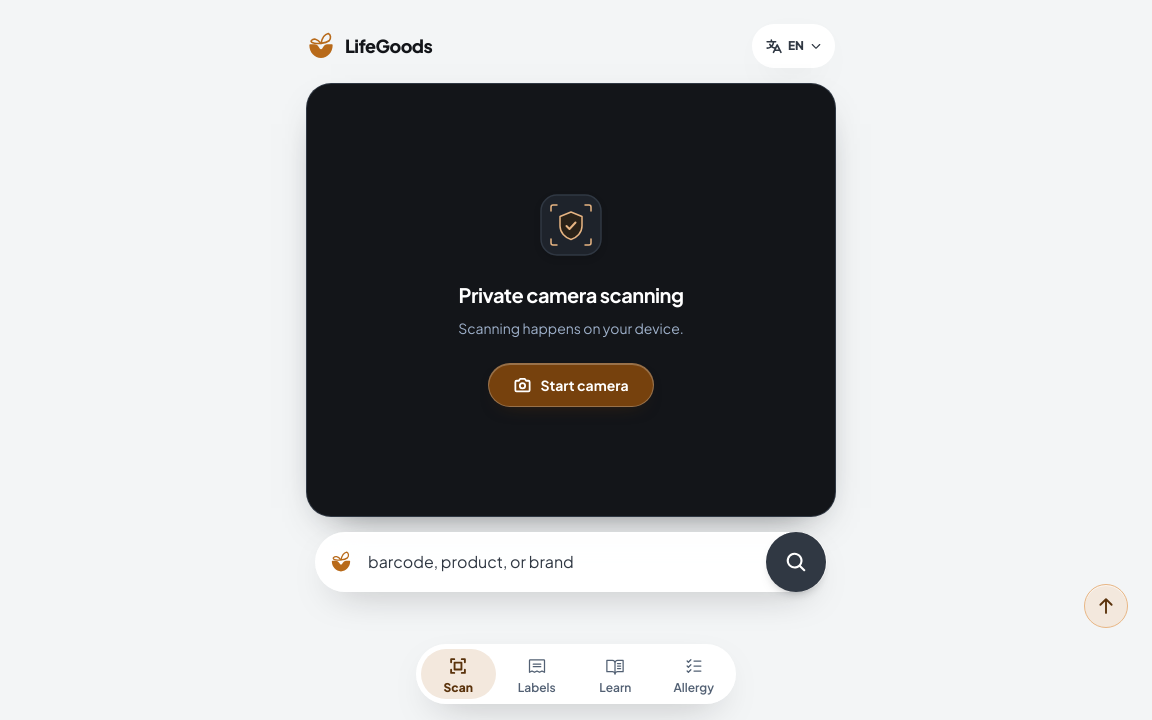
it: Compare Nutrition frontend page (/compare) › is reached from the primary navigation, not from the Scan page
(page scrolled)
Expected: the link "Compare Nutrition" is not shown
Click the link "Labels" at (537, 675), box [518,656,556,694]
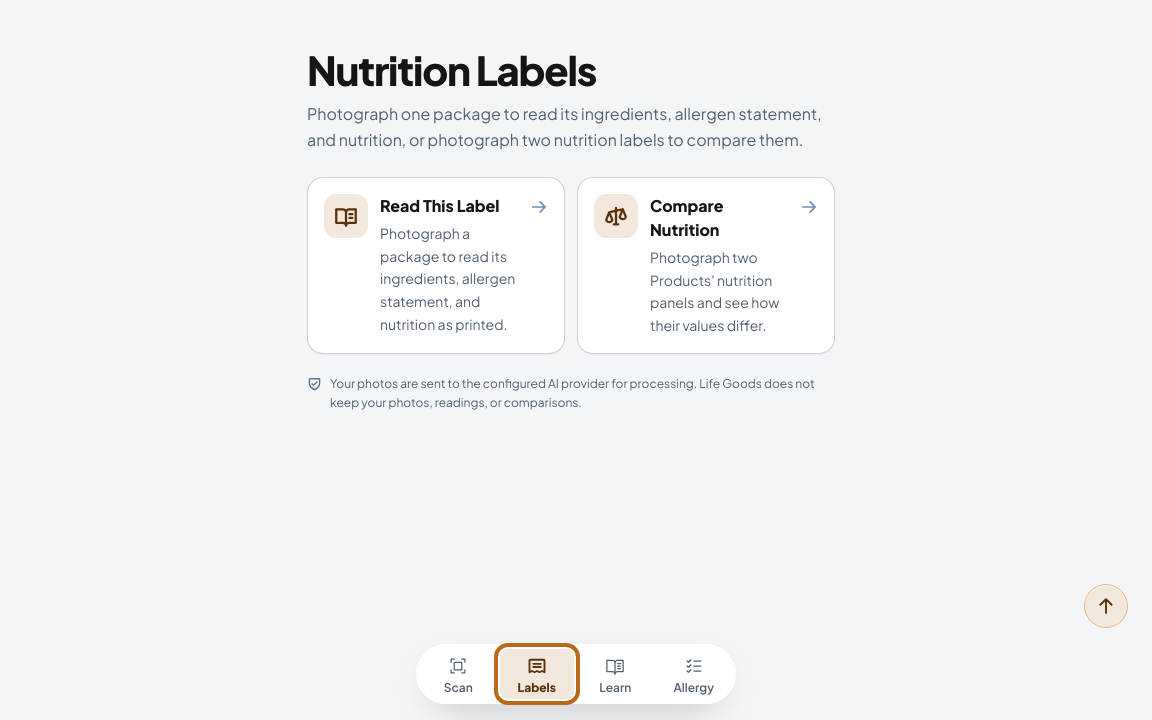
Click the link "Compare Nutrition" at (706, 265), box [577,177,835,354]
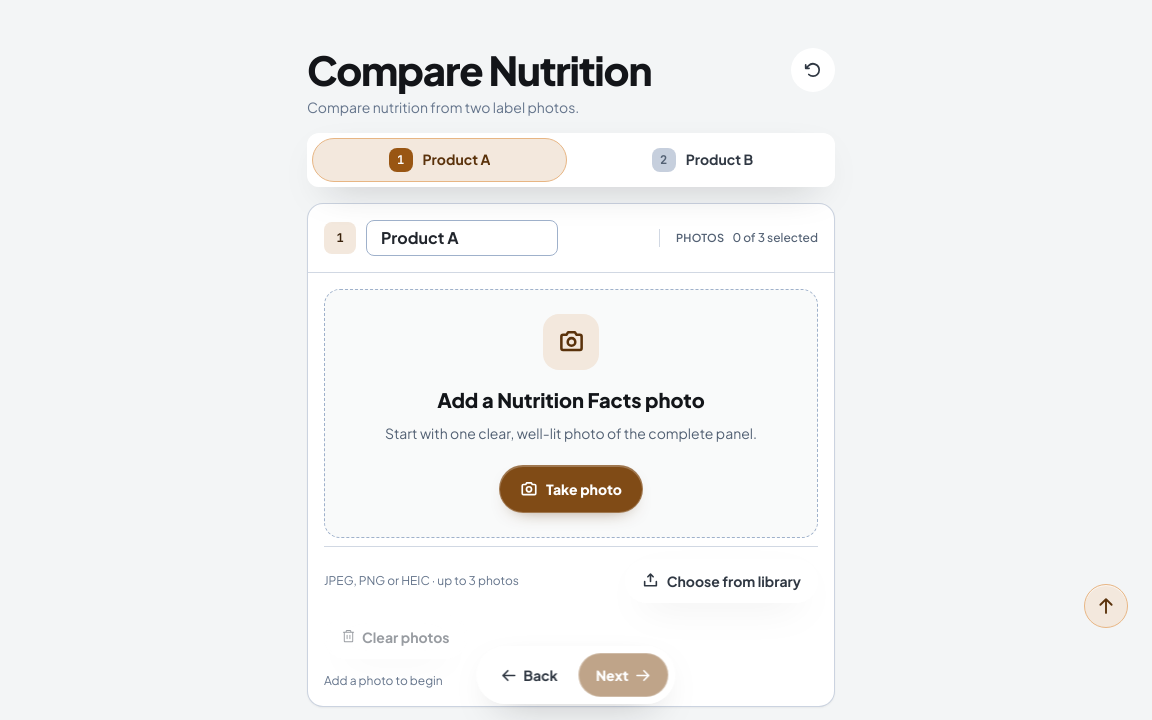
Now the heading "Compare Nutrition" is shown, box [307,48,651,93]
